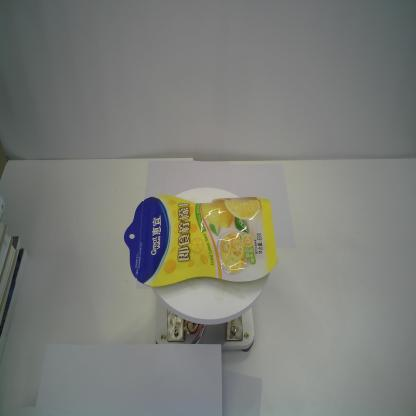Dried Fruit: (122, 190, 278, 289)
